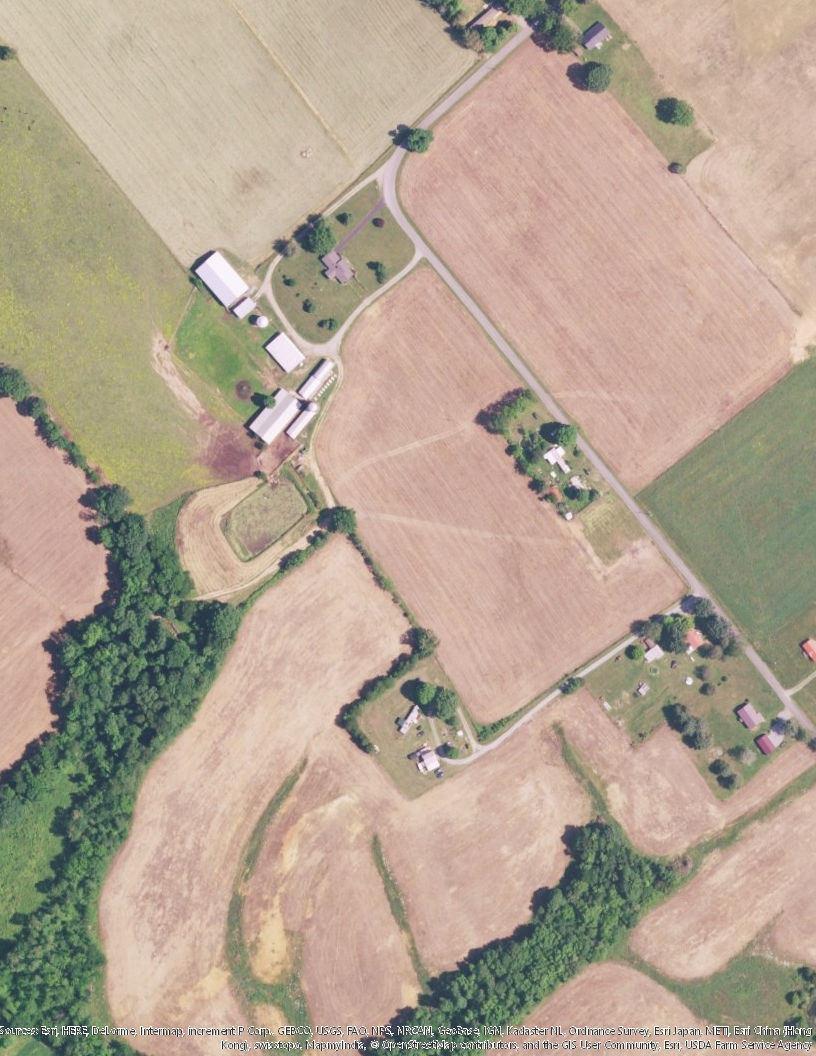cafo: (242, 382, 323, 453), (192, 249, 264, 320), (298, 352, 341, 403), (263, 332, 308, 369)
